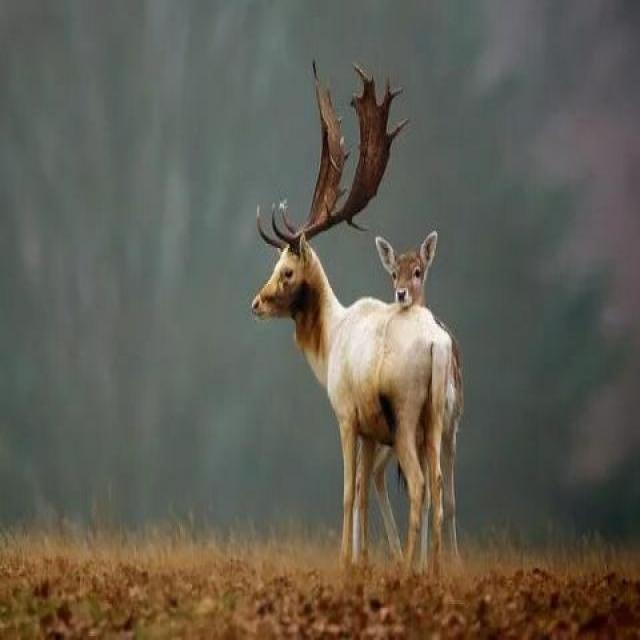deer: (215, 149, 490, 520)
